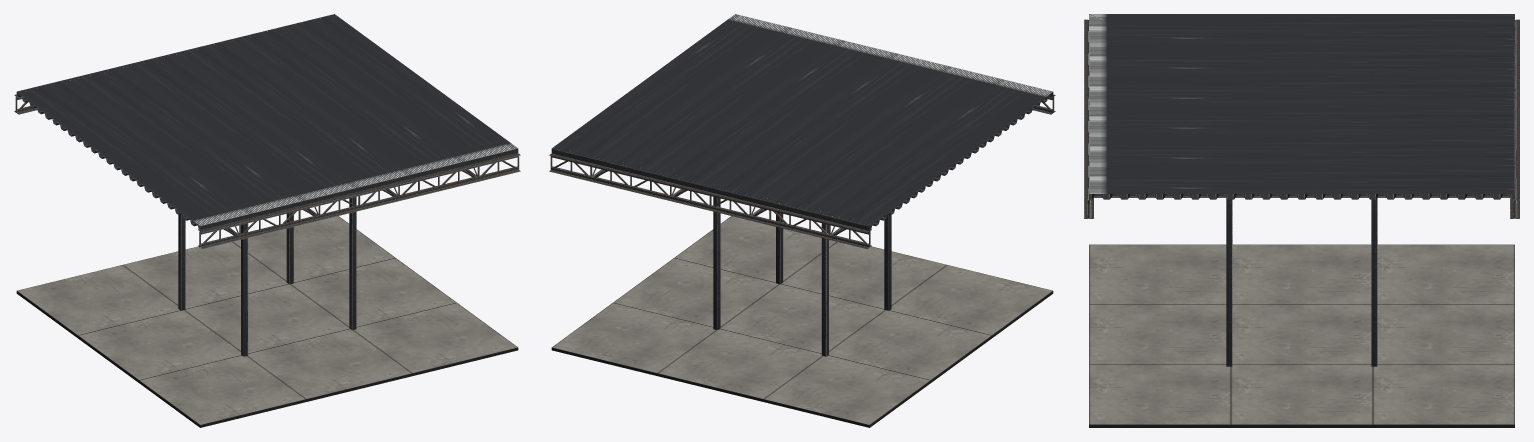
Rendered from Corridor_Cross.fbx.
The picture shows the model from 3 angles, left to right: view 1: azimuth 30°, elevation 25°; view 2: azimuth 150°, elevation 25°; view 3: azimuth 270°, elevation 25°; orthographic projection. The views are drawn at different scales.
Parts seen in each view (by area): view 1: Ceiling, Floor, Trim; view 2: Ceiling, Floor, Trim; view 3: Ceiling, Floor, Trim.
Part boxes in pixels (x1=…): Ceiling: x1=14, y1=14, x2=520, y2=248; Floor: x1=16, y1=216, x2=518, y2=427; Trim: x1=178, y1=83, x2=356, y2=356; Ceiling: x1=549, y1=14, x2=1055, y2=248; Floor: x1=551, y1=216, x2=1053, y2=427; Trim: x1=713, y1=83, x2=891, y2=356; Ceiling: x1=1084, y1=14, x2=1519, y2=218; Floor: x1=1089, y1=244, x2=1514, y2=427; Trim: x1=1226, y1=72, x2=1377, y2=366.
Bounding box in the file's own units: 24.13 × 14.55 × 24.56.
2 materials, 2 textured.
